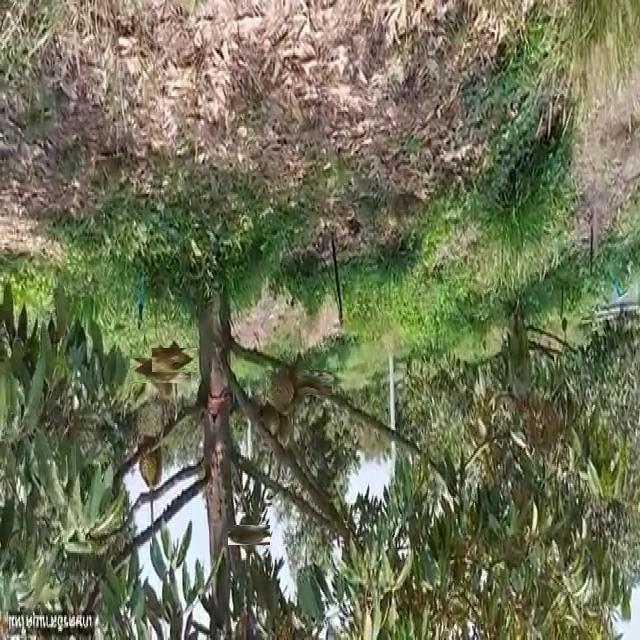durian: (276, 360, 322, 406), (135, 431, 164, 495), (139, 349, 182, 392), (267, 359, 298, 413), (266, 407, 292, 453), (254, 401, 279, 448), (158, 343, 192, 377), (233, 519, 264, 551)
